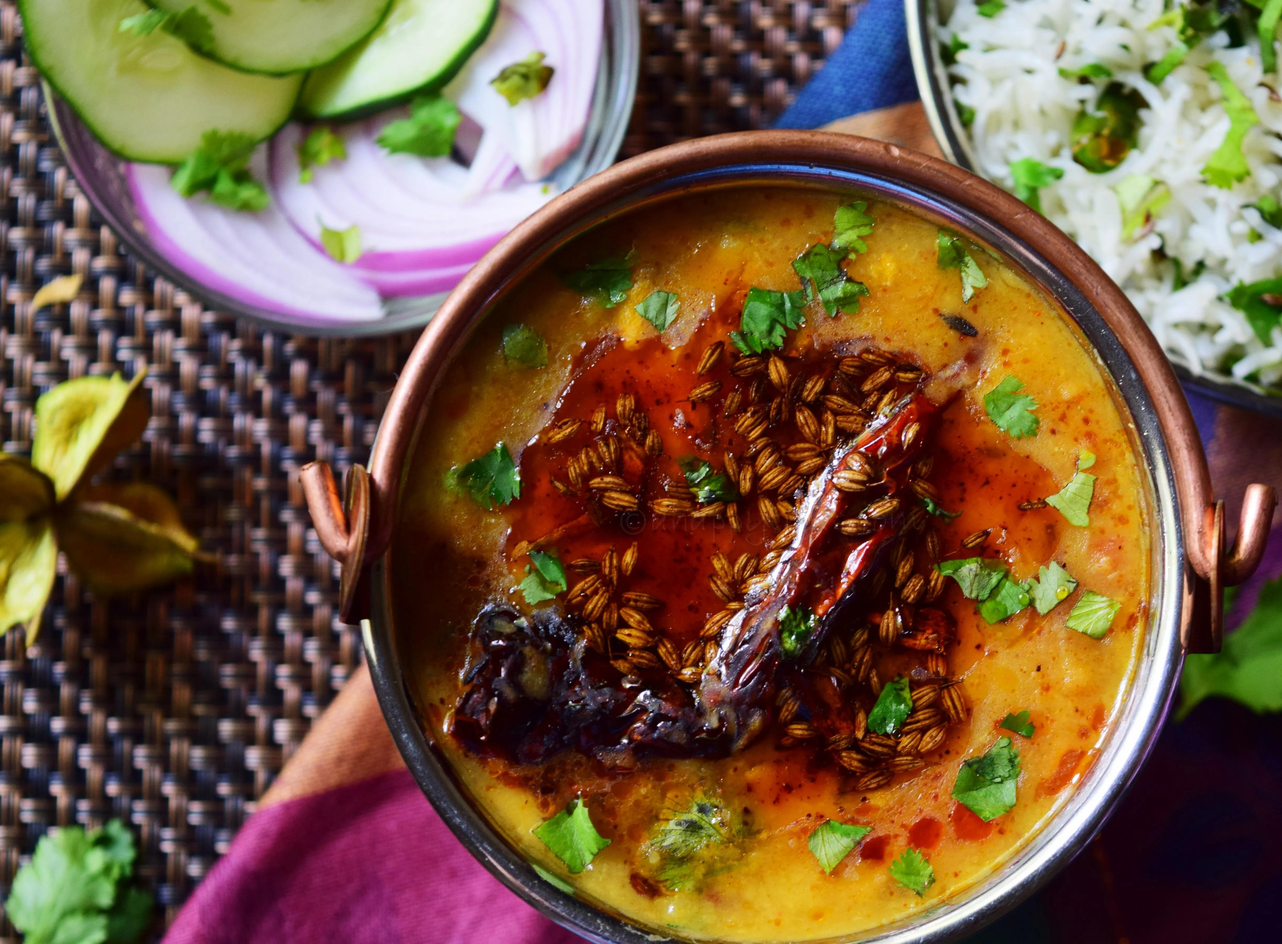Dal: (390, 187, 1153, 944)
WhiteRice: (939, 0, 1282, 398)
